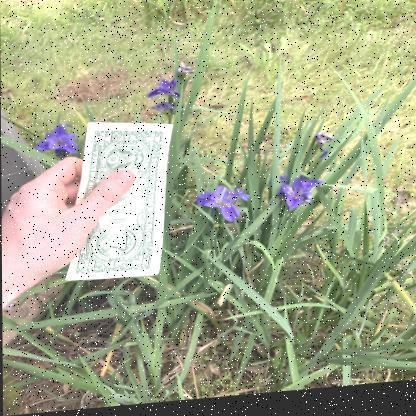one-back: (65, 124, 174, 283)
